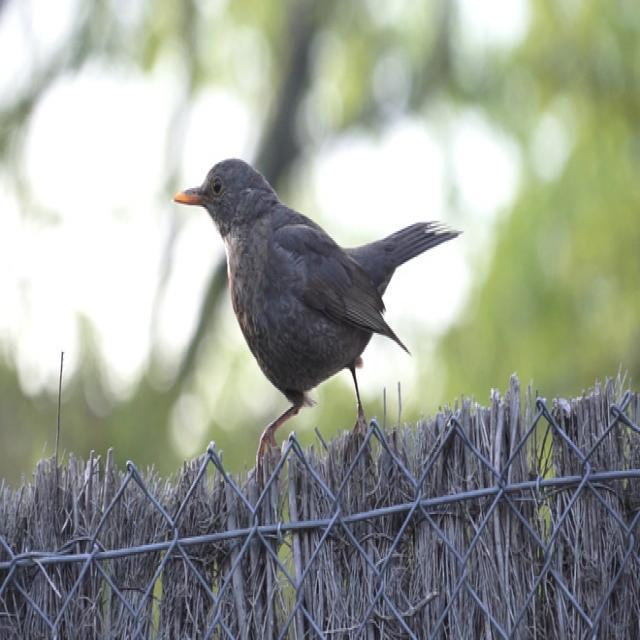bird: (150, 88, 502, 535)
